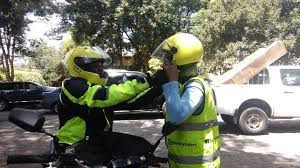helmet: (149, 31, 205, 77), (64, 46, 112, 91)
